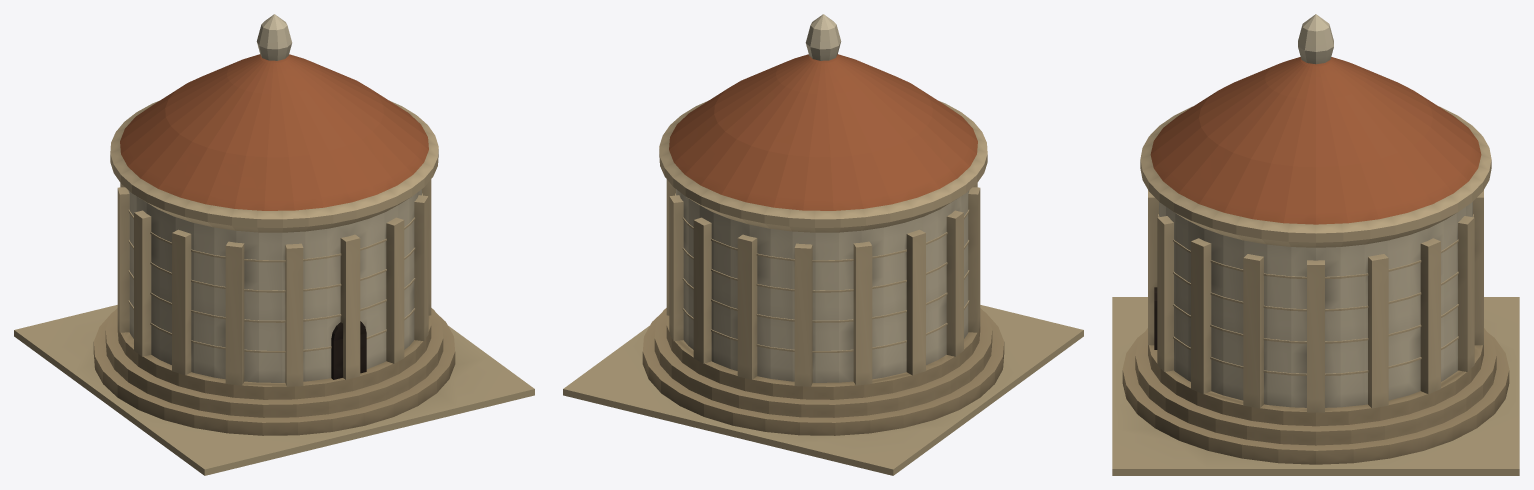
File: roman-mausoleum.glb
The picture shows the model from 3 angles, left to right: view 1: azimuth 30°, elevation 25°; view 2: azimuth 150°, elevation 25°; view 3: azimuth 270°, elevation 25°; orthographic projection. The views are drawn at different scales.
Visible parts, largest first — view 1: p1_drum, p0_base, p2_roof; view 2: p1_drum, p0_base, p2_roof; view 3: p1_drum, p2_roof, p0_base.
Part boxes in pixels (x1,y1,x2,y2): p1_drum: (110, 100, 438, 386); p0_base: (14, 305, 534, 475); p2_roof: (120, 14, 428, 210); p1_drum: (659, 100, 987, 386); p0_base: (563, 305, 1083, 475); p2_roof: (669, 14, 977, 210); p1_drum: (1140, 106, 1491, 412); p2_roof: (1150, 14, 1481, 224); p0_base: (1112, 297, 1519, 475).
Size of the model in its own units: 16 by 16.3 by 16.
